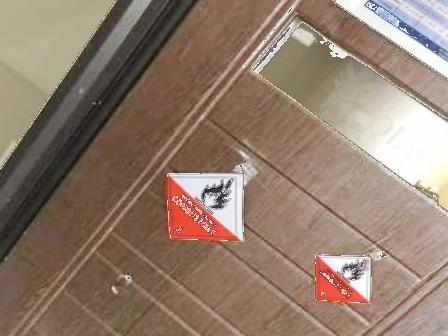spontaneously-combustible: (165, 173, 242, 239), (314, 255, 371, 302)
